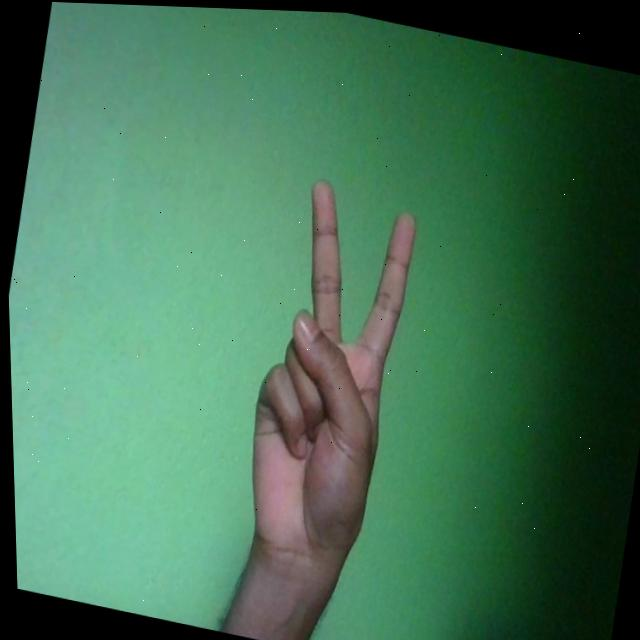Peace: (222, 169, 426, 578)
